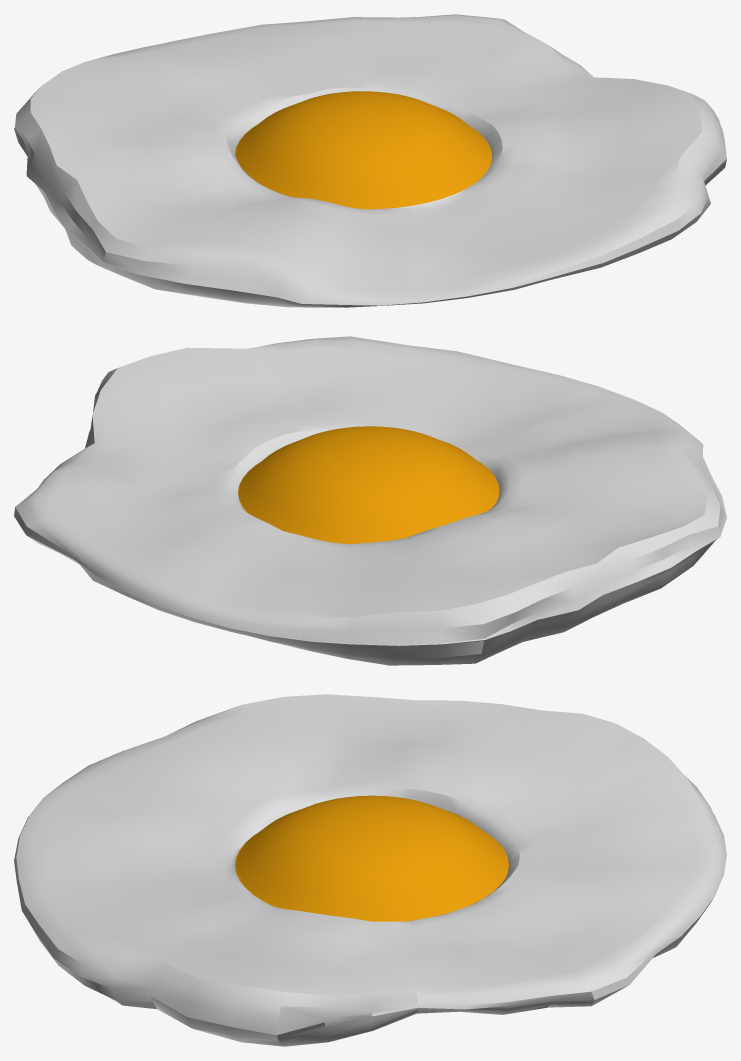
Rendered from trung chien.fbx.
3 views of the same model, one above another, from view 1: azimuth 30°, elevation 25°; view 2: azimuth 150°, elevation 25°; view 3: azimuth 270°, elevation 25° (orthographic). The views are drawn at different scales.
Parts seen in each view (by area): view 1: Procedual Fried Egg; view 2: Procedual Fried Egg; view 3: Procedual Fried Egg.
Boxes of the visible parts, left/top/right/bottom form: Procedual Fried Egg: left=14, top=14, right=726, bottom=307; Procedual Fried Egg: left=14, top=336, right=726, bottom=665; Procedual Fried Egg: left=14, top=694, right=726, bottom=1046.
Size of the model in its own units: 10.82 by 1.37 by 10.21.
